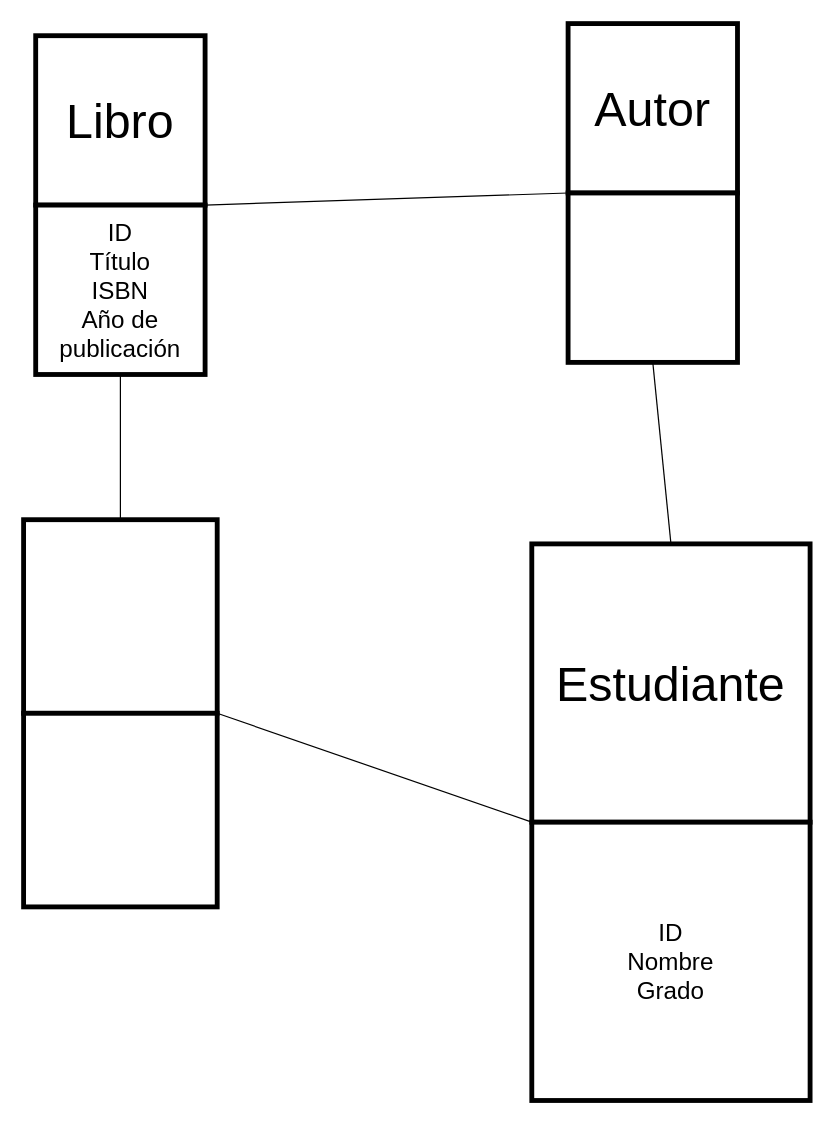
Image size: 832x1123. Some labels were removed from this diagram. Here are the shapes that lost their labels. From the top down, the centre of each, then its label:
At (652,277): "ID Nombre Nacionalidad".
At (120,616): "Préstamo".
At (120,809): "Fecha de préstamo ID ID_libro Fecha de devolución".
